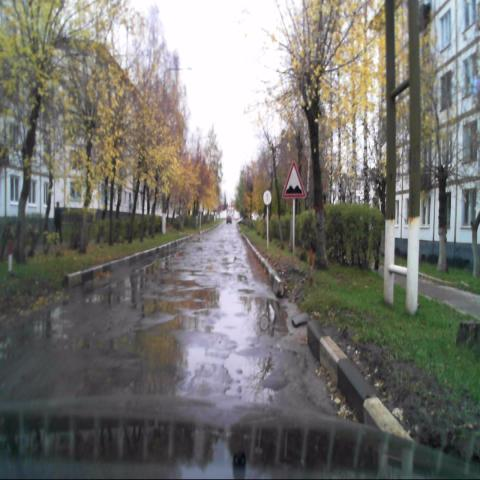1_16: (282, 162, 305, 198)
